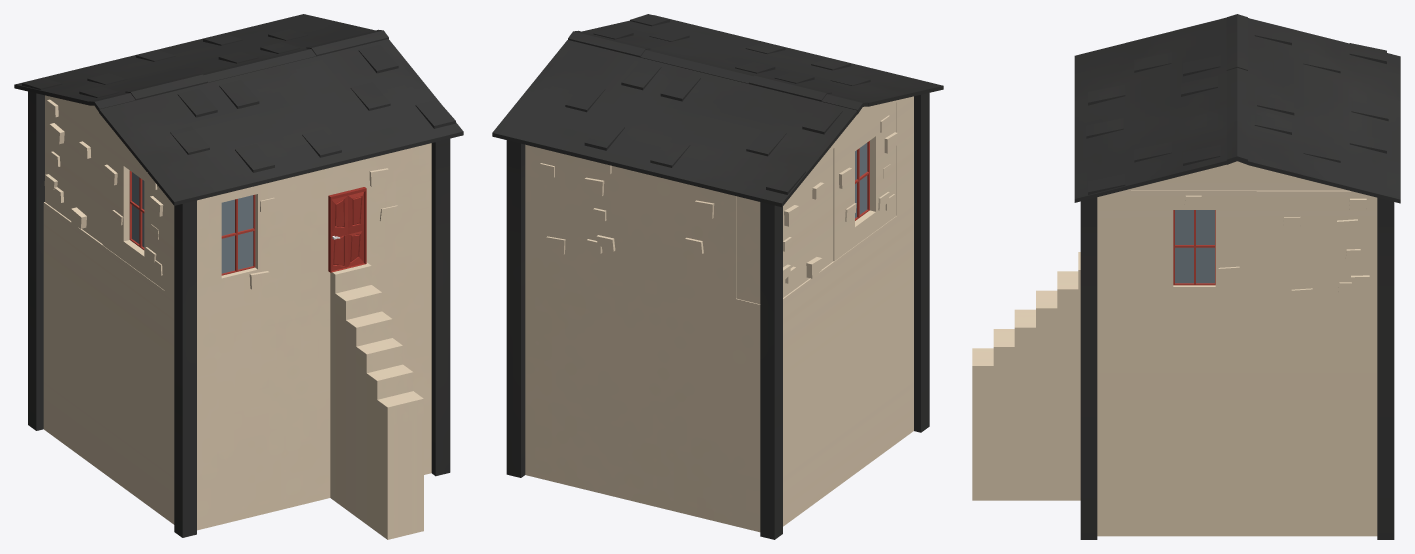
3 renders of one model, left to right at view 1: azimuth 30°, elevation 25°; view 2: azimuth 150°, elevation 25°; view 3: azimuth 270°, elevation 25°, orthographic.
Visible parts, largest first — view 1: 6.001; view 2: 6.001; view 3: 6.001.
Part boxes in pixels (x1=…): 6.001: x1=14, y1=14, x2=463, y2=539; 6.001: x1=492, y1=14, x2=943, y2=539; 6.001: x1=972, y1=14, x2=1400, y2=539.
Size of the model in its own units: 16.04 by 20.25 by 20.2.
Materials: 2 (1 with a texture image).
